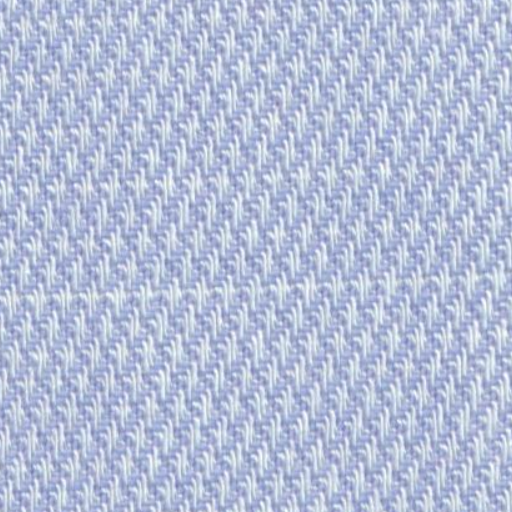TuoSha: (9, 262, 494, 334)
